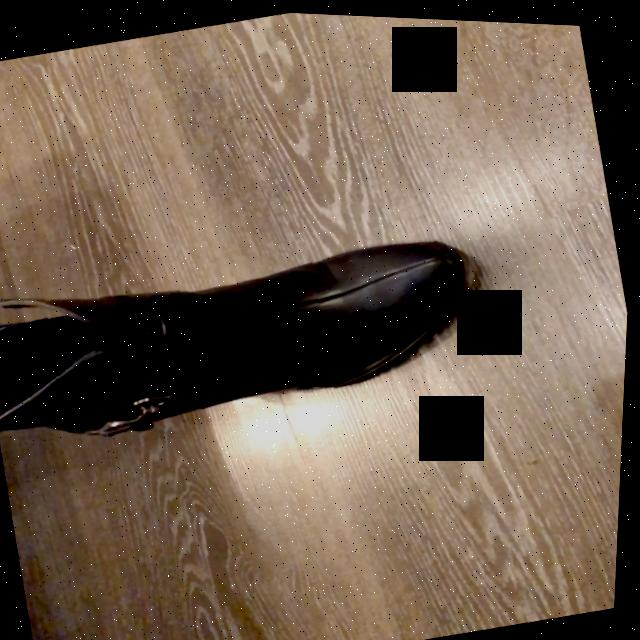shoe: (0, 238, 489, 438)
